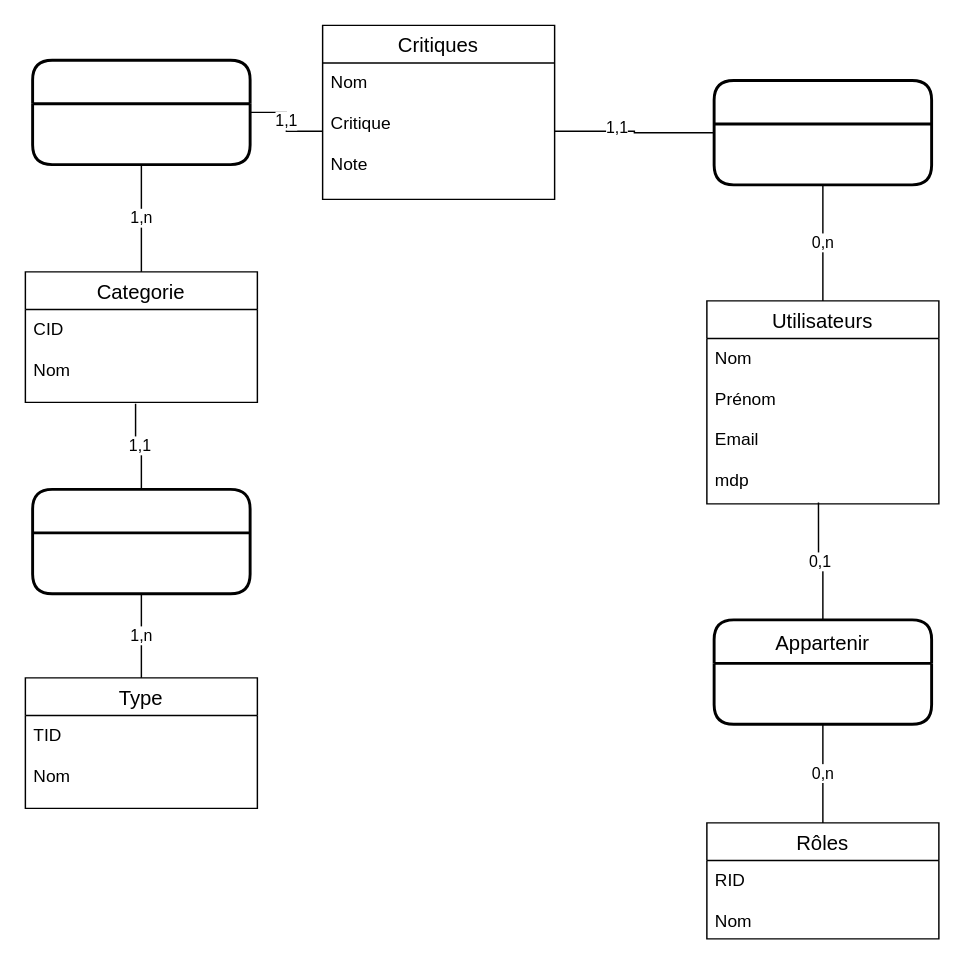
The diagram is 964 pixels wide and 969 high, and some of its shapes have lost their labels. Here are the shapes that lost their labels. From the top down, the centre of each, then its label:
At point (140, 111): "Classer".
At point (822, 132): "Rédiger".
At point (140, 540): "Contenir".
